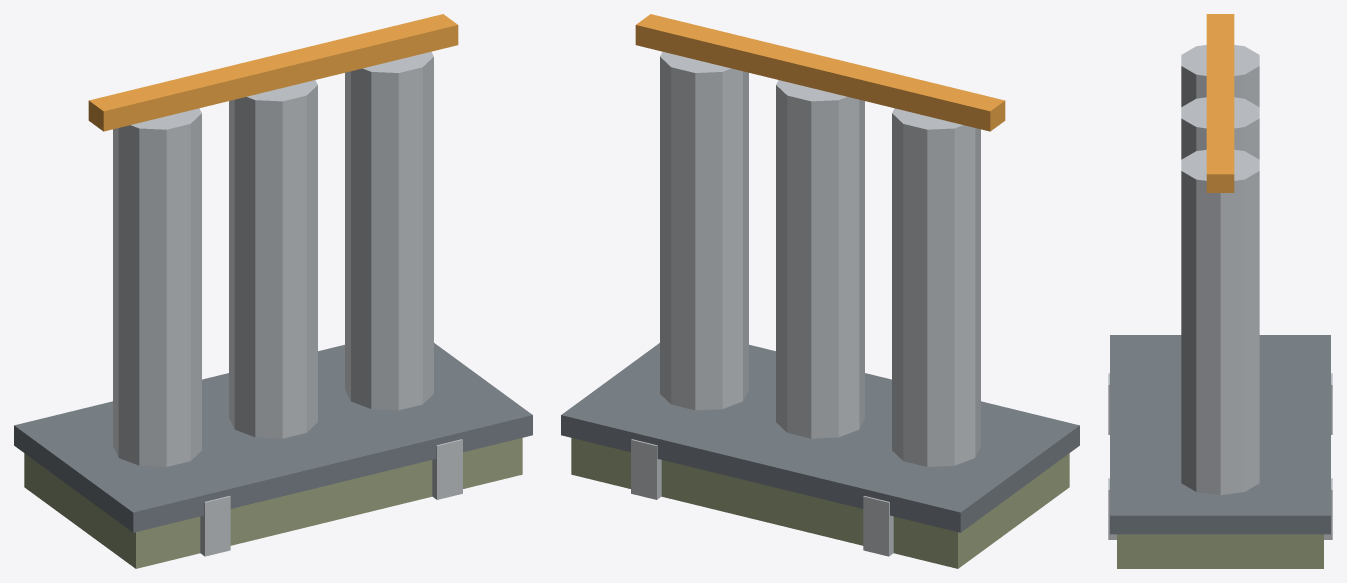
Rendered from mech-hangar-and-battle-frames-compressed-air-rack-65af98b7__26975.glb.
3 renders of one model, left to right at view 1: azimuth 30°, elevation 25°; view 2: azimuth 150°, elevation 25°; view 3: azimuth 270°, elevation 25°, orthographic. The views are drawn at different scales.
Parts seen in each view (by area): view 1: compressed-air-rack; view 2: compressed-air-rack; view 3: compressed-air-rack.
Boxes of the visible parts, left/top/right/bottom form: compressed-air-rack: left=14, top=14, right=532, bottom=568; compressed-air-rack: left=561, top=14, right=1079, bottom=568; compressed-air-rack: left=1108, top=14, right=1332, bottom=568.
Bounding box in the file's own units: 1.24 × 1.24 × 0.65.
